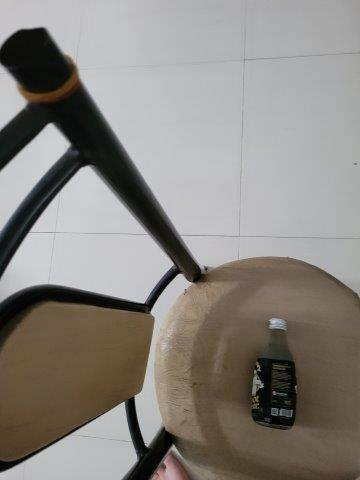botolkaca: (252, 318, 295, 428)
